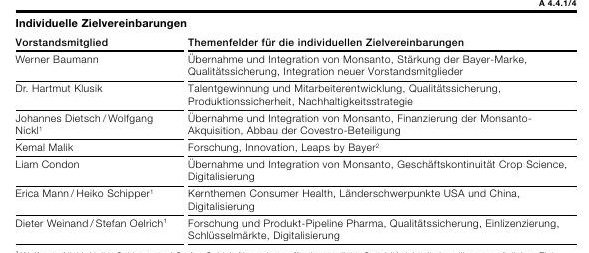table: (0, 0, 589, 253)
